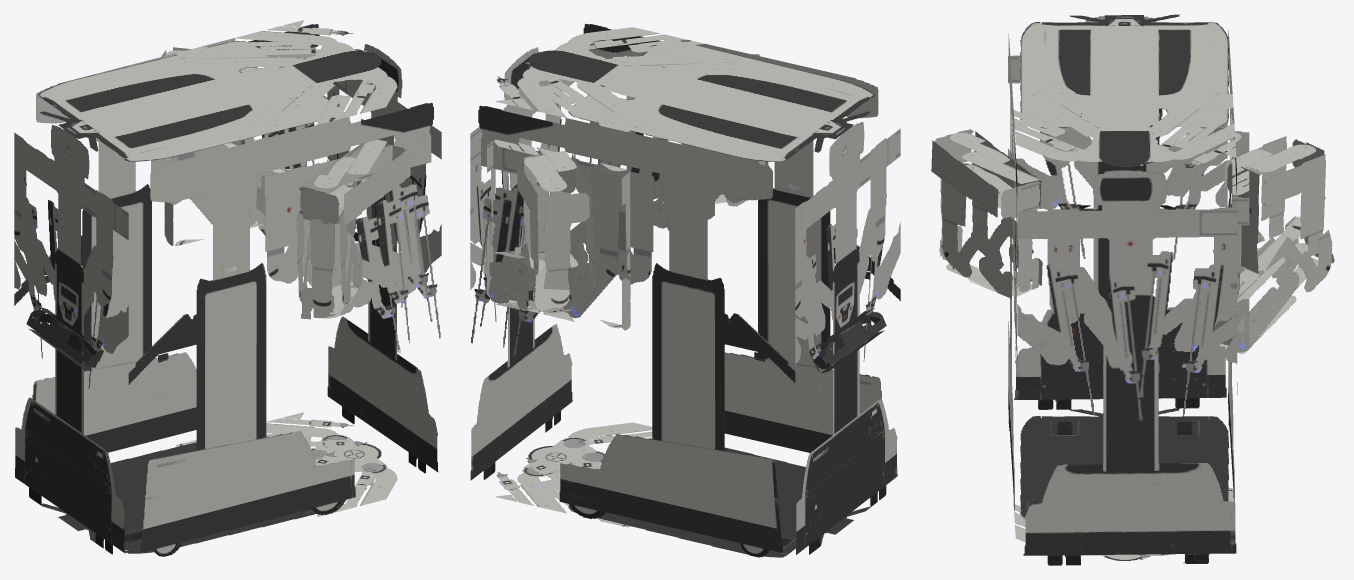
Rendered from surgical-robot-1024.glb.
3 renders of one model, left to right at view 1: azimuth 30°, elevation 25°; view 2: azimuth 150°, elevation 25°; view 3: azimuth 270°, elevation 25°, orthographic.
Visible parts, largest first — view 1: box_impostor; view 2: box_impostor; view 3: box_impostor.
Boxes of the visible parts, x1,y1,x2,y2 form: box_impostor: [14, 20, 441, 556]; box_impostor: [470, 24, 900, 557]; box_impostor: [931, 14, 1334, 565].
Size of the model in its own units: 1.81 by 2.02 by 1.91.
1 material, 1 textured.
